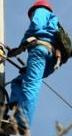boots: (0, 102, 28, 135), (0, 105, 11, 129)
hard-hat: (0, 19, 11, 34)
ppe-suit: (0, 33, 32, 123)
